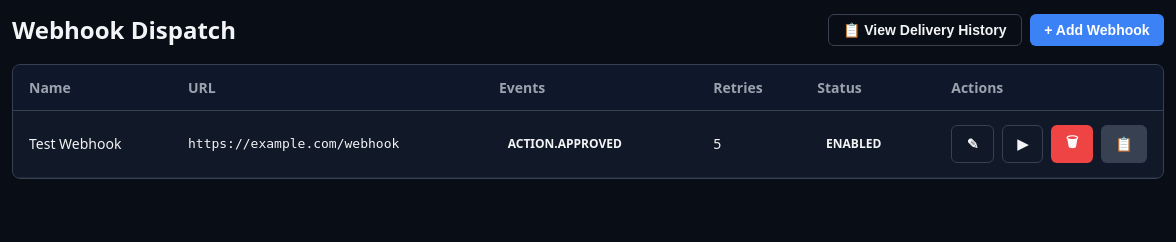
Test: WebhookManager › displays delivery status badges correctly
Click the button "📋 View Delivery History": (925, 30) [828,14,1022,46]
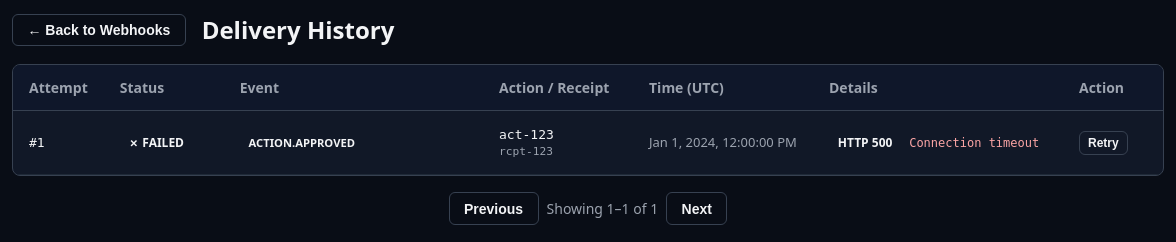
Now the text "✗ Failed" is shown, box [129,134,184,151]
Now the text "HTTP 500" is shown, box [838,134,892,151]
